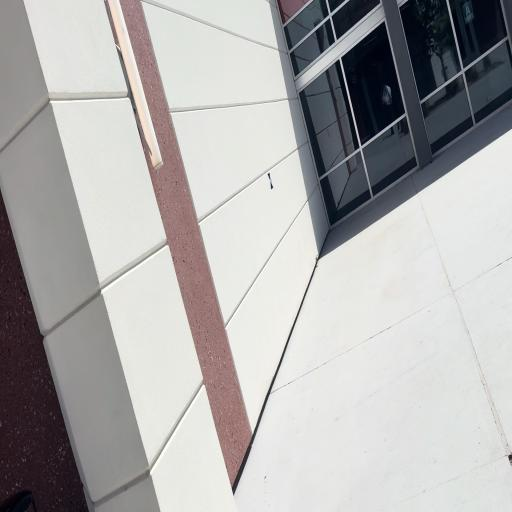target4: (267, 172, 274, 190)
